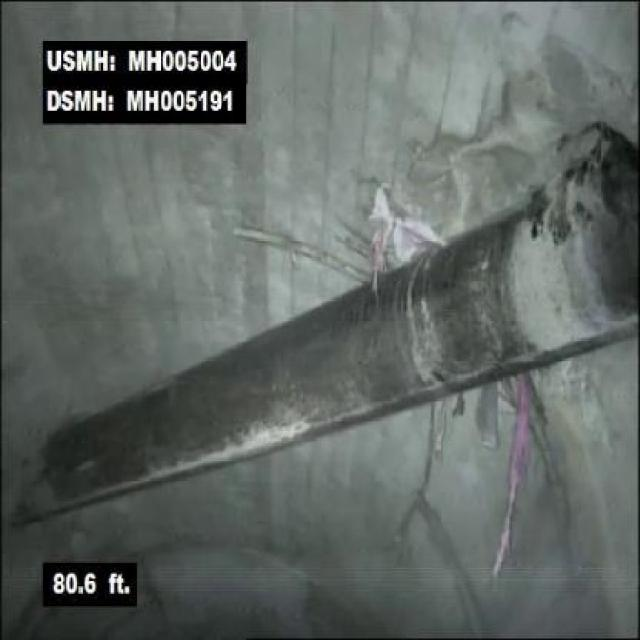Utility intrusion: (19, 126, 638, 528)
